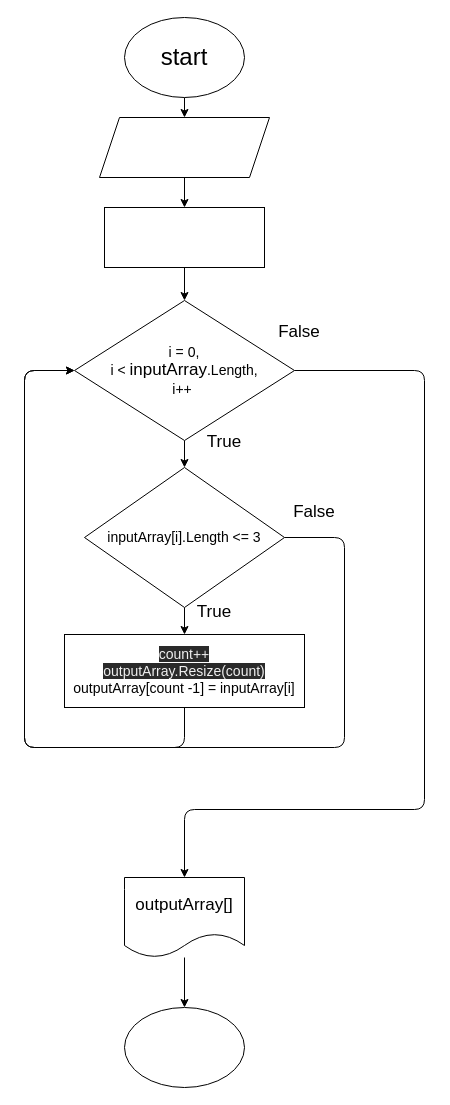
This 450x1105 diagram has some shape labels left out. The shapes that lost their labels are listed below. From the top down, each one's box as (x1, y1, x2, y2) in pixels, then its label:
(98, 116, 270, 178): inputArray [ ]
(104, 206, 264, 268): outputArray [ ] count = 0
(124, 1006, 244, 1088): end
